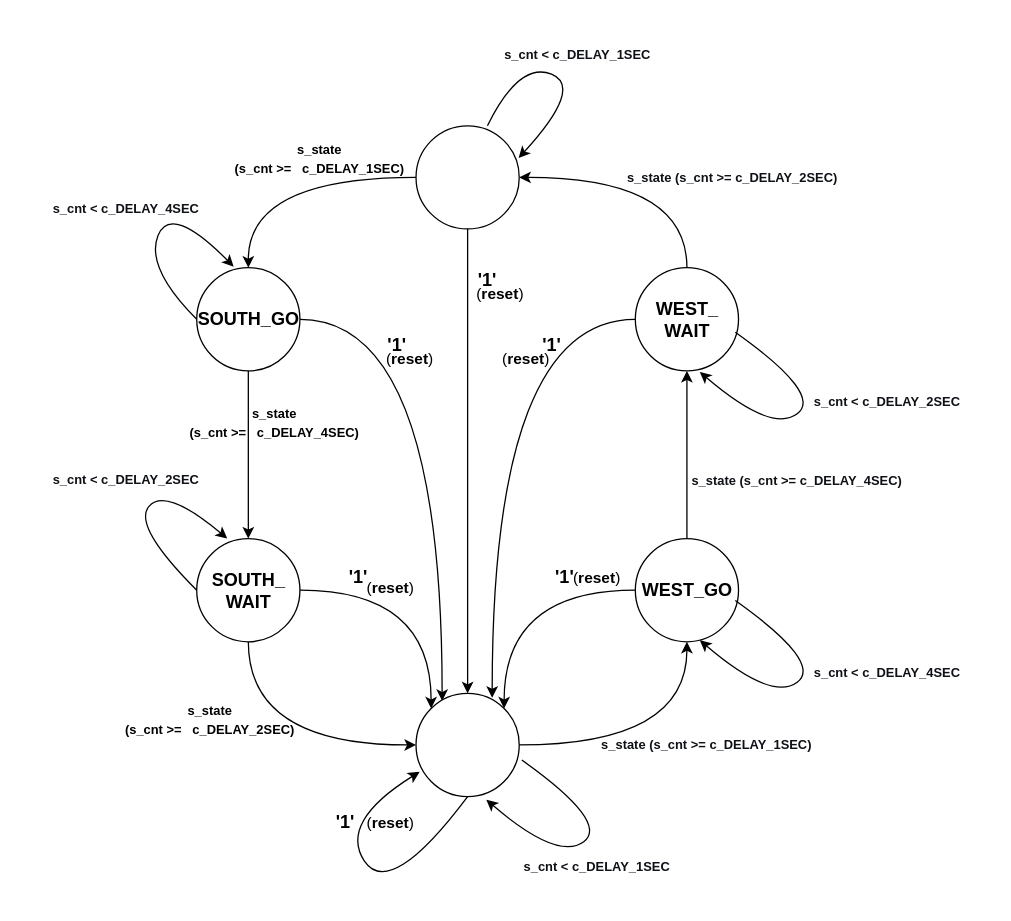
Image size: 1011x921. Some labels were removed from this diagram. Each missing label, with the box of its shape:
STOP1: (415, 692, 519, 797)
STOP2: (415, 124, 519, 229)
